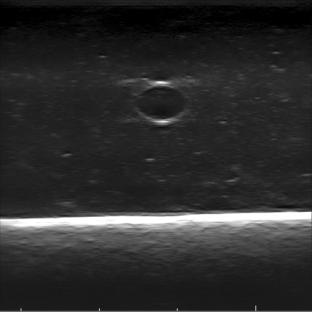vessel: (132, 80, 189, 125)
